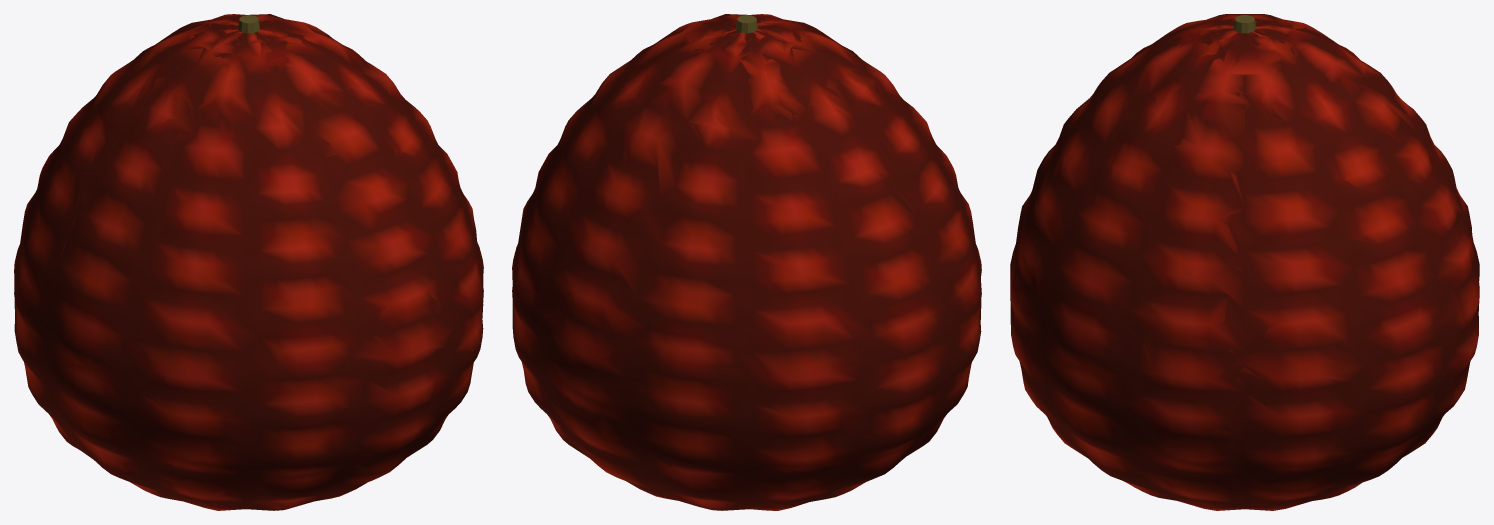
Rendered from coeur-de-boeuf.glb.
3 views of the same model, side by side, from view 1: azimuth 30°, elevation 25°; view 2: azimuth 150°, elevation 25°; view 3: azimuth 270°, elevation 25° (orthographic).
Parts seen in each view (by area): view 1: entier_peau, moitie_B_peau, moitie_A_peau; view 2: entier_peau, moitie_A_peau, moitie_B_peau; view 3: entier_peau, moitie_A_peau, moitie_B_peau.
Boxes of the visible parts, x1,y1,x2,y2 form: entier_peau: [14, 14, 483, 510]; moitie_B_peau: [46, 25, 483, 510]; moitie_A_peau: [14, 14, 364, 450]; entier_peau: [512, 14, 981, 510]; moitie_A_peau: [512, 25, 949, 510]; moitie_B_peau: [632, 14, 981, 456]; entier_peau: [1010, 14, 1479, 510]; moitie_A_peau: [1245, 14, 1479, 510]; moitie_B_peau: [1010, 14, 1244, 510].
Size of the model in its own units: 1.88 by 2.04 by 1.88.
